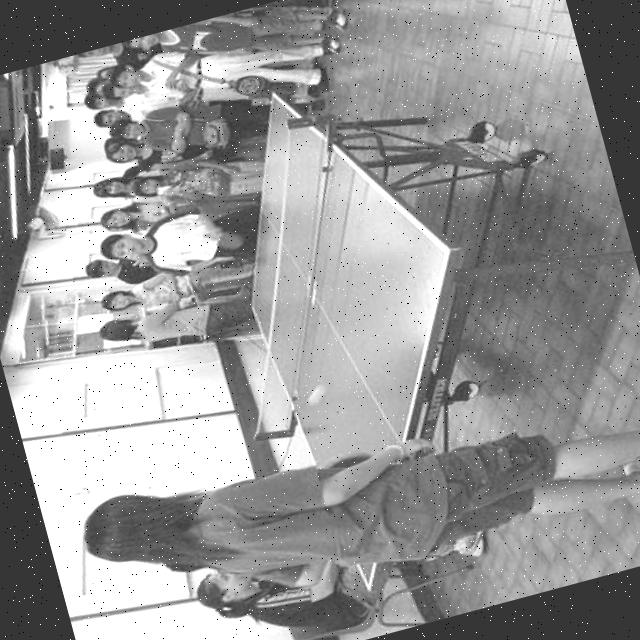ping-pong-ball: (302, 382, 332, 407)
